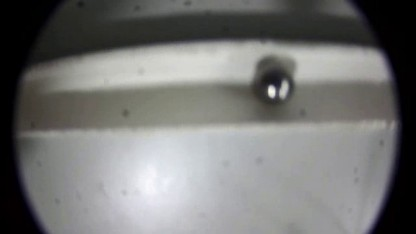gangzhu: (254, 71, 297, 105)
